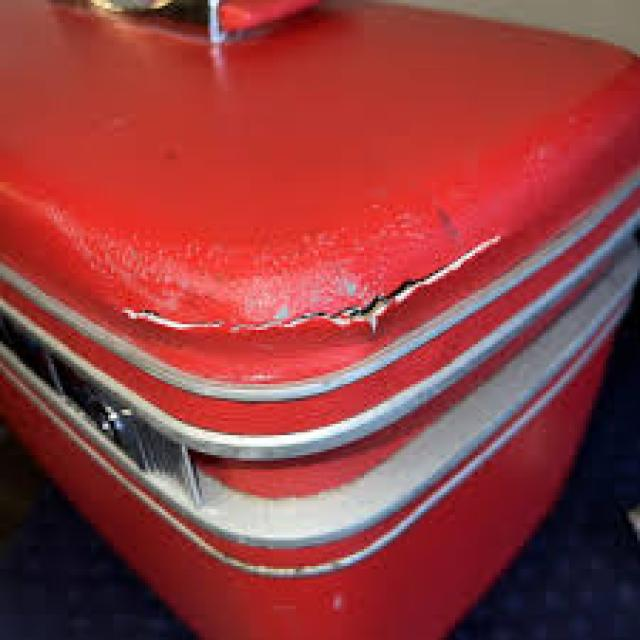Damage-bag: (122, 237, 501, 339), (250, 374, 270, 380)
